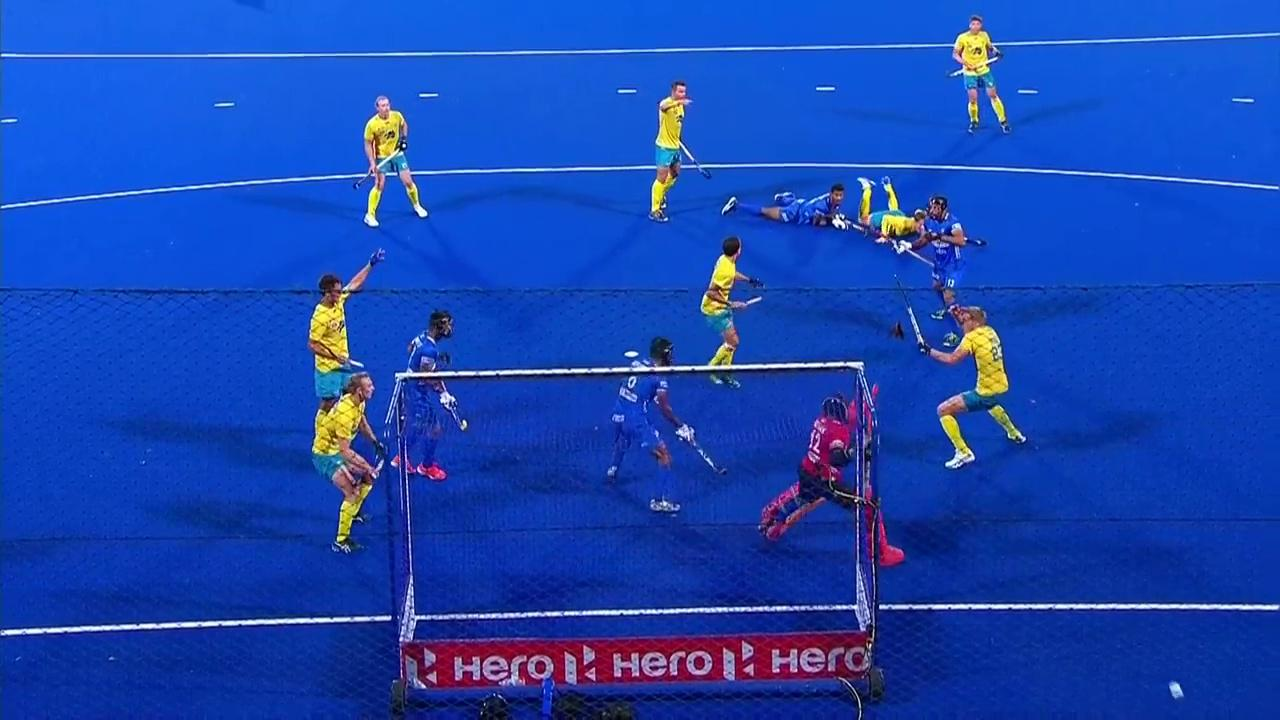ball: (1166, 682, 1191, 701)
